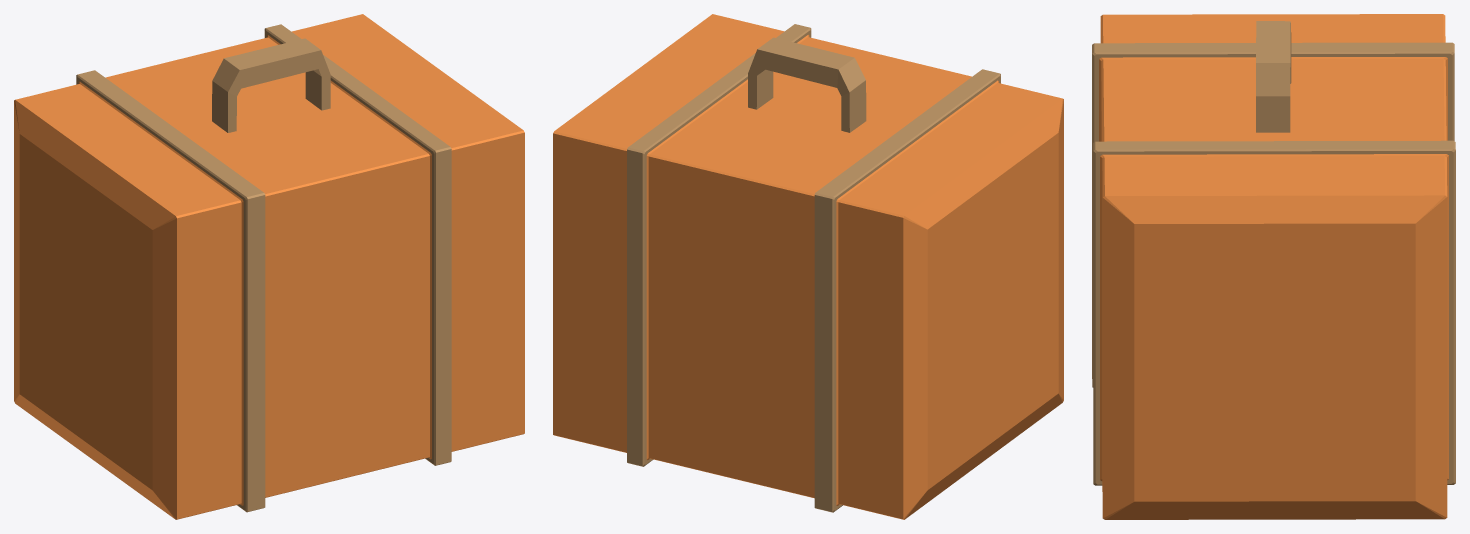
File: Suitcase_4.fbx
The picture shows the model from 3 angles, left to right: view 1: azimuth 30°, elevation 25°; view 2: azimuth 150°, elevation 25°; view 3: azimuth 270°, elevation 25°; orthographic projection. The views are drawn at different scales.
Parts seen in each view (by area): view 1: Suitcase_4; view 2: Suitcase_4; view 3: Suitcase_4.
Boxes of the visible parts, left/top/right/bottom form: Suitcase_4: left=14, top=14, right=524, bottom=519; Suitcase_4: left=553, top=14, right=1063, bottom=519; Suitcase_4: left=1092, top=14, right=1455, bottom=519.
Size of the model in its own units: 65.36 by 52.37 by 62.69.
